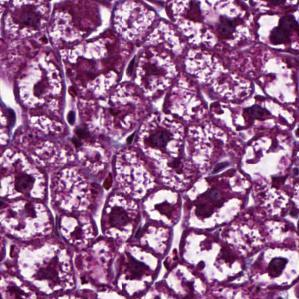inflammation: (186, 175, 251, 226), (140, 105, 187, 172), (98, 190, 141, 240)
